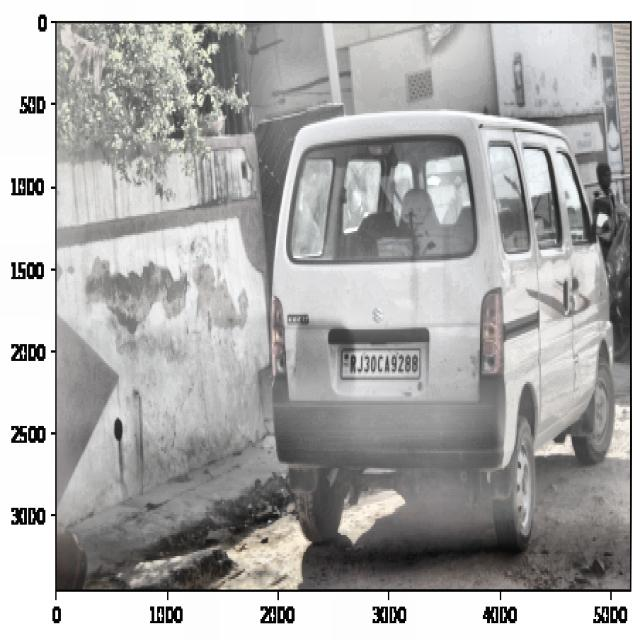license_plate: (344, 347, 422, 382)
